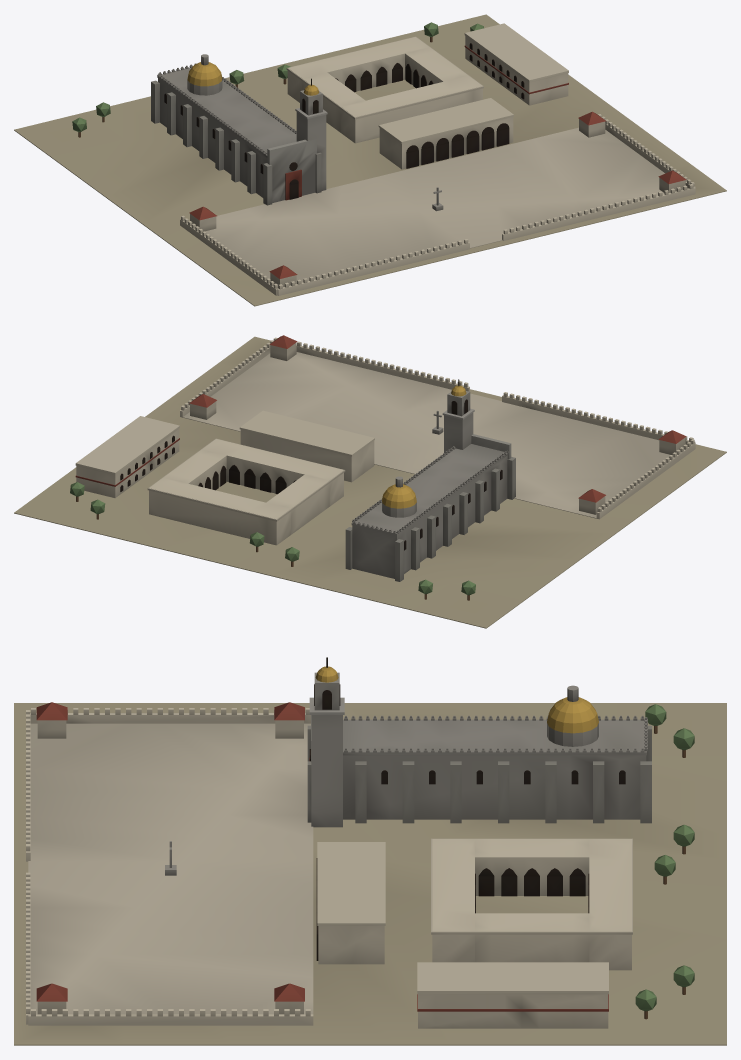
The model's file is san-francisco.glb.
3 views of the same model, one above another, from view 1: azimuth 30°, elevation 25°; view 2: azimuth 150°, elevation 25°; view 3: azimuth 270°, elevation 25° (orthographic). The views are drawn at different scales.
Parts seen in each view (by area): view 1: p0_ground, p2_convent, p1_atrium; view 2: p0_ground, p2_convent, p1_atrium; view 3: p0_ground, p2_convent, p1_atrium.
Boxes of the visible parts, x1,y1,x2,y2 form: p0_ground: [14, 14, 726, 306]; p2_convent: [72, 22, 568, 205]; p1_atrium: [180, 111, 695, 295]; p0_ground: [14, 336, 726, 628]; p2_convent: [70, 379, 515, 600]; p1_atrium: [180, 335, 695, 519]; p0_ground: [14, 703, 726, 1045]; p2_convent: [307, 657, 694, 1028]; p1_atrium: [26, 702, 313, 1025].
Size of the model in its own units: 170 by 38.09 by 150.
